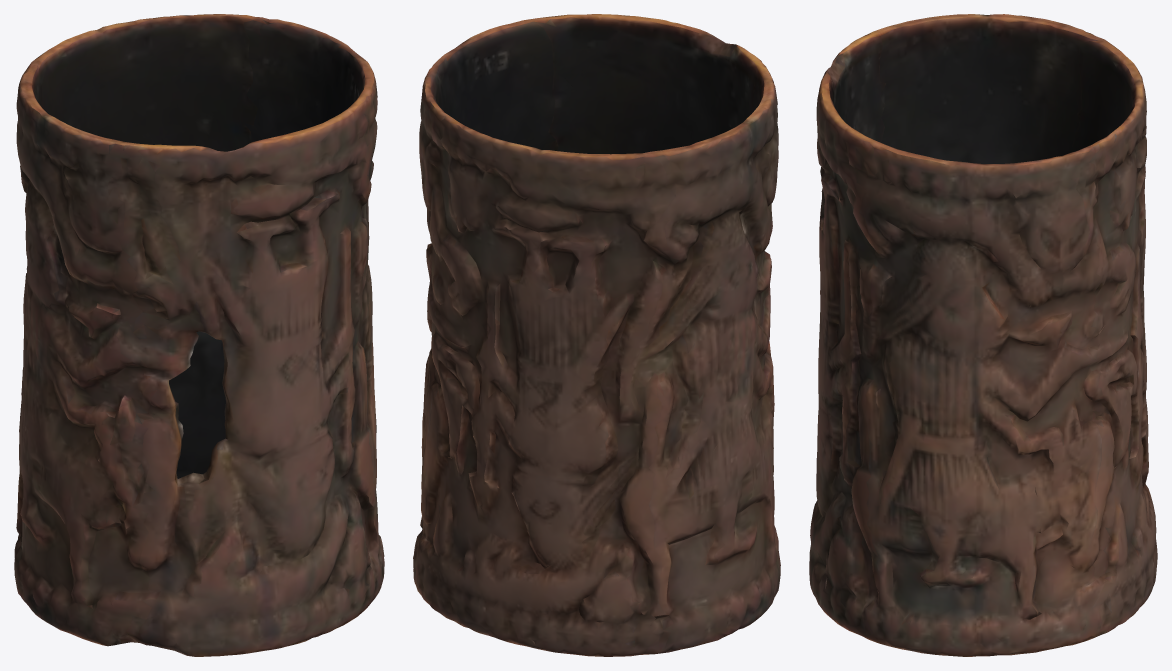
Rendered from preview.glb.
The picture shows the model from 3 angles, left to right: view 1: azimuth 30°, elevation 25°; view 2: azimuth 150°, elevation 25°; view 3: azimuth 270°, elevation 25°; orthographic projection.
Visible parts, largest first — view 1: Object_2; view 2: Object_2; view 3: Object_2.
Part boxes in pixels (<box>): Object_2: <box>14,14,384,656</box>; Object_2: <box>413,14,780,656</box>; Object_2: <box>809,14,1157,656</box>.
Size of the model in its own units: 16.14 by 24.28 by 15.36.
Materials: 1 (1 with a texture image).
